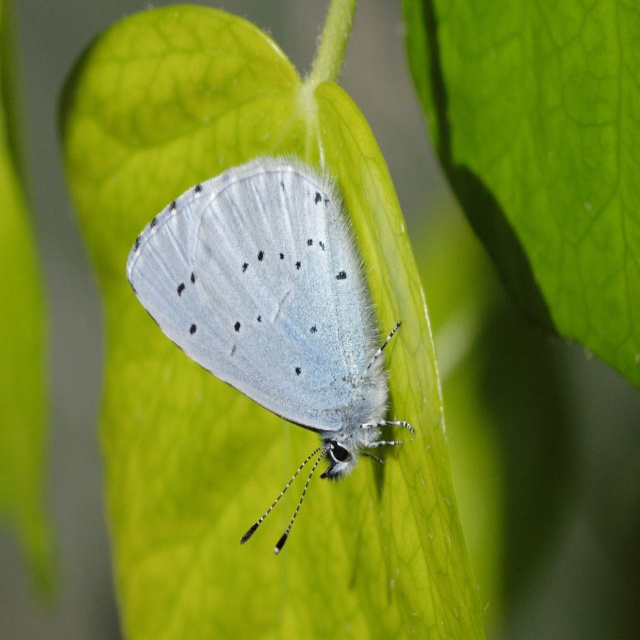Butterfly: (126, 145, 415, 556)
